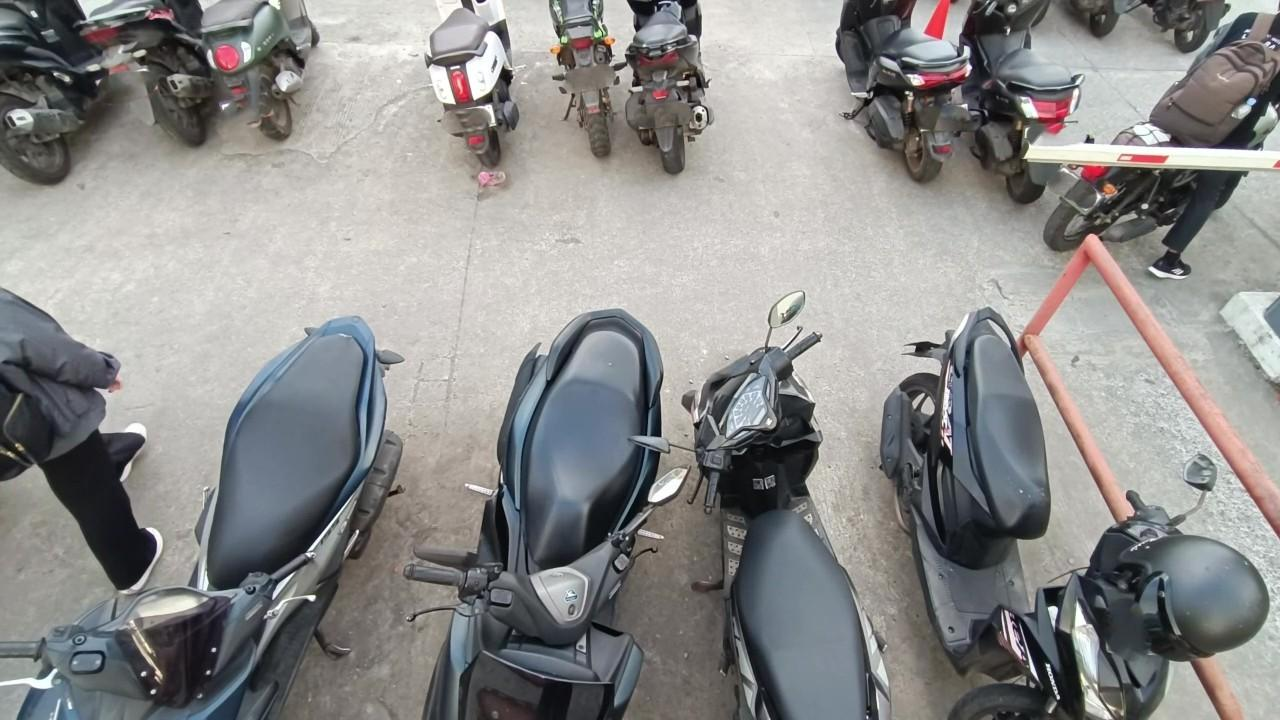motorcycle: (0, 314, 407, 720), (880, 307, 1267, 720), (397, 310, 694, 720), (641, 295, 890, 720), (1045, 14, 1280, 277), (957, 0, 1084, 205), (835, 0, 973, 187), (0, 0, 111, 190), (83, 0, 229, 144), (425, 0, 527, 195), (200, 0, 322, 145), (623, 0, 720, 180), (554, 0, 625, 167), (1120, 0, 1234, 54), (1057, 0, 1126, 41)
